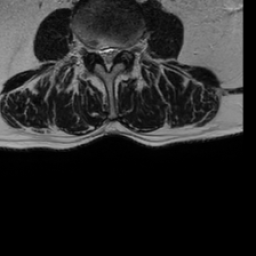CCS_normal: (104, 43, 111, 76)
LFS_severe_stenosis: (119, 42, 126, 59)
LLS_stenosis: (111, 43, 119, 64)
RFS_severe_stenosis: (88, 39, 96, 59)
RLS_stenosis: (96, 44, 104, 63)
